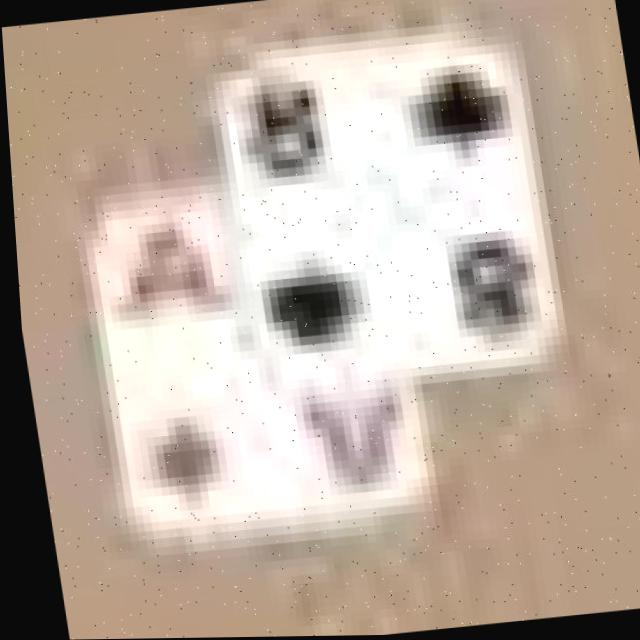Card-8: (218, 48, 557, 384)
Card-A: (79, 201, 431, 531)
